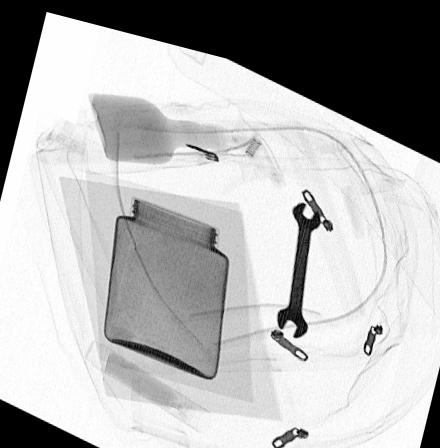Wrench: (274, 184, 321, 324)
